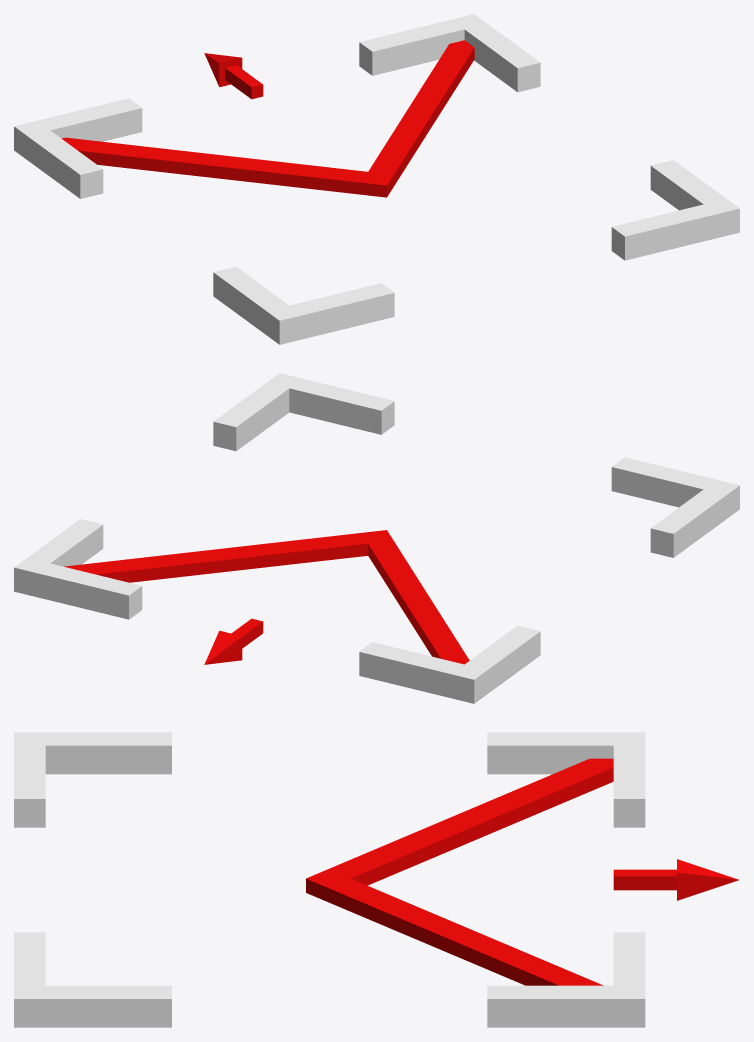
3 renders of one model, top to bottom at view 1: azimuth 30°, elevation 25°; view 2: azimuth 150°, elevation 25°; view 3: azimuth 270°, elevation 25°, orthographic. The views are drawn at different scales.
Parts seen in each view (by area): view 1: i_frame_Cube.007, los_Cube.003, arrow_Cube; view 2: i_frame_Cube.007, los_Cube.003, arrow_Cube; view 3: i_frame_Cube.007, los_Cube.003, arrow_Cube.
Part boxes in pixels (x1,y1,x2,y2): i_frame_Cube.007: (14, 14, 739, 344); los_Cube.003: (61, 40, 474, 197); arrow_Cube: (204, 53, 263, 99); i_frame_Cube.007: (14, 373, 739, 703); los_Cube.003: (64, 530, 469, 664); arrow_Cube: (204, 618, 263, 664); i_frame_Cube.007: (14, 732, 645, 1027); los_Cube.003: (306, 758, 613, 985); arrow_Cube: (613, 859, 738, 900).
Size of the model in its own units: 4 by 0.2 by 4.6.
3 materials, 3 textured.
